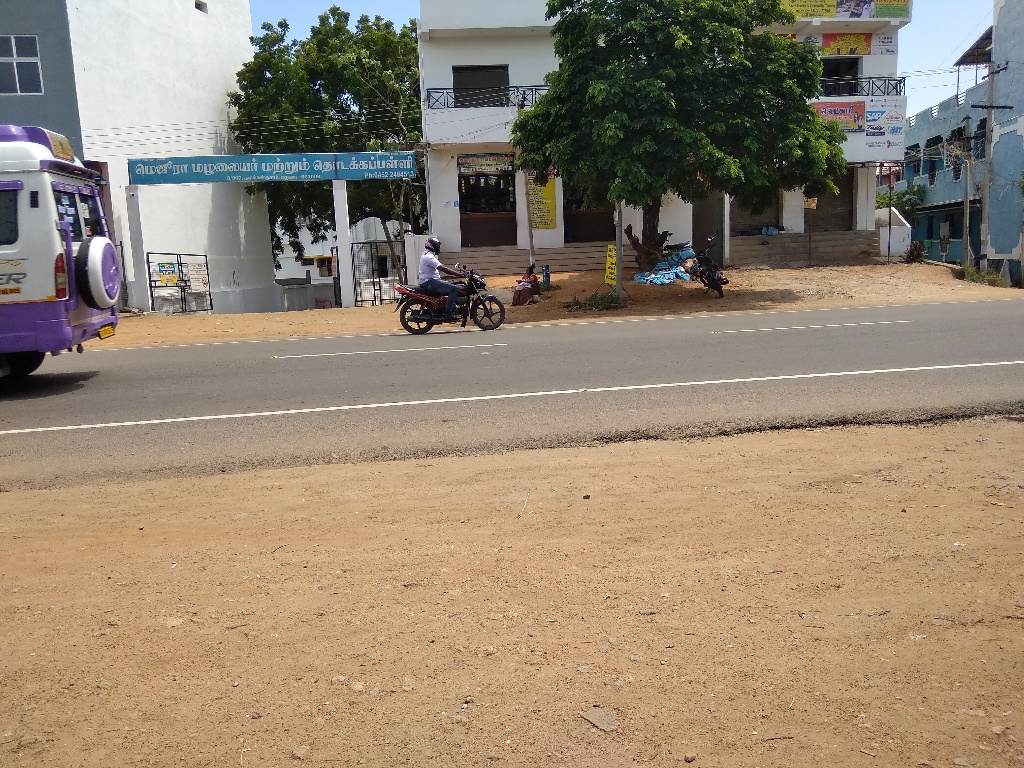biker: (385, 202, 511, 342)
helmet: (420, 224, 449, 265)
